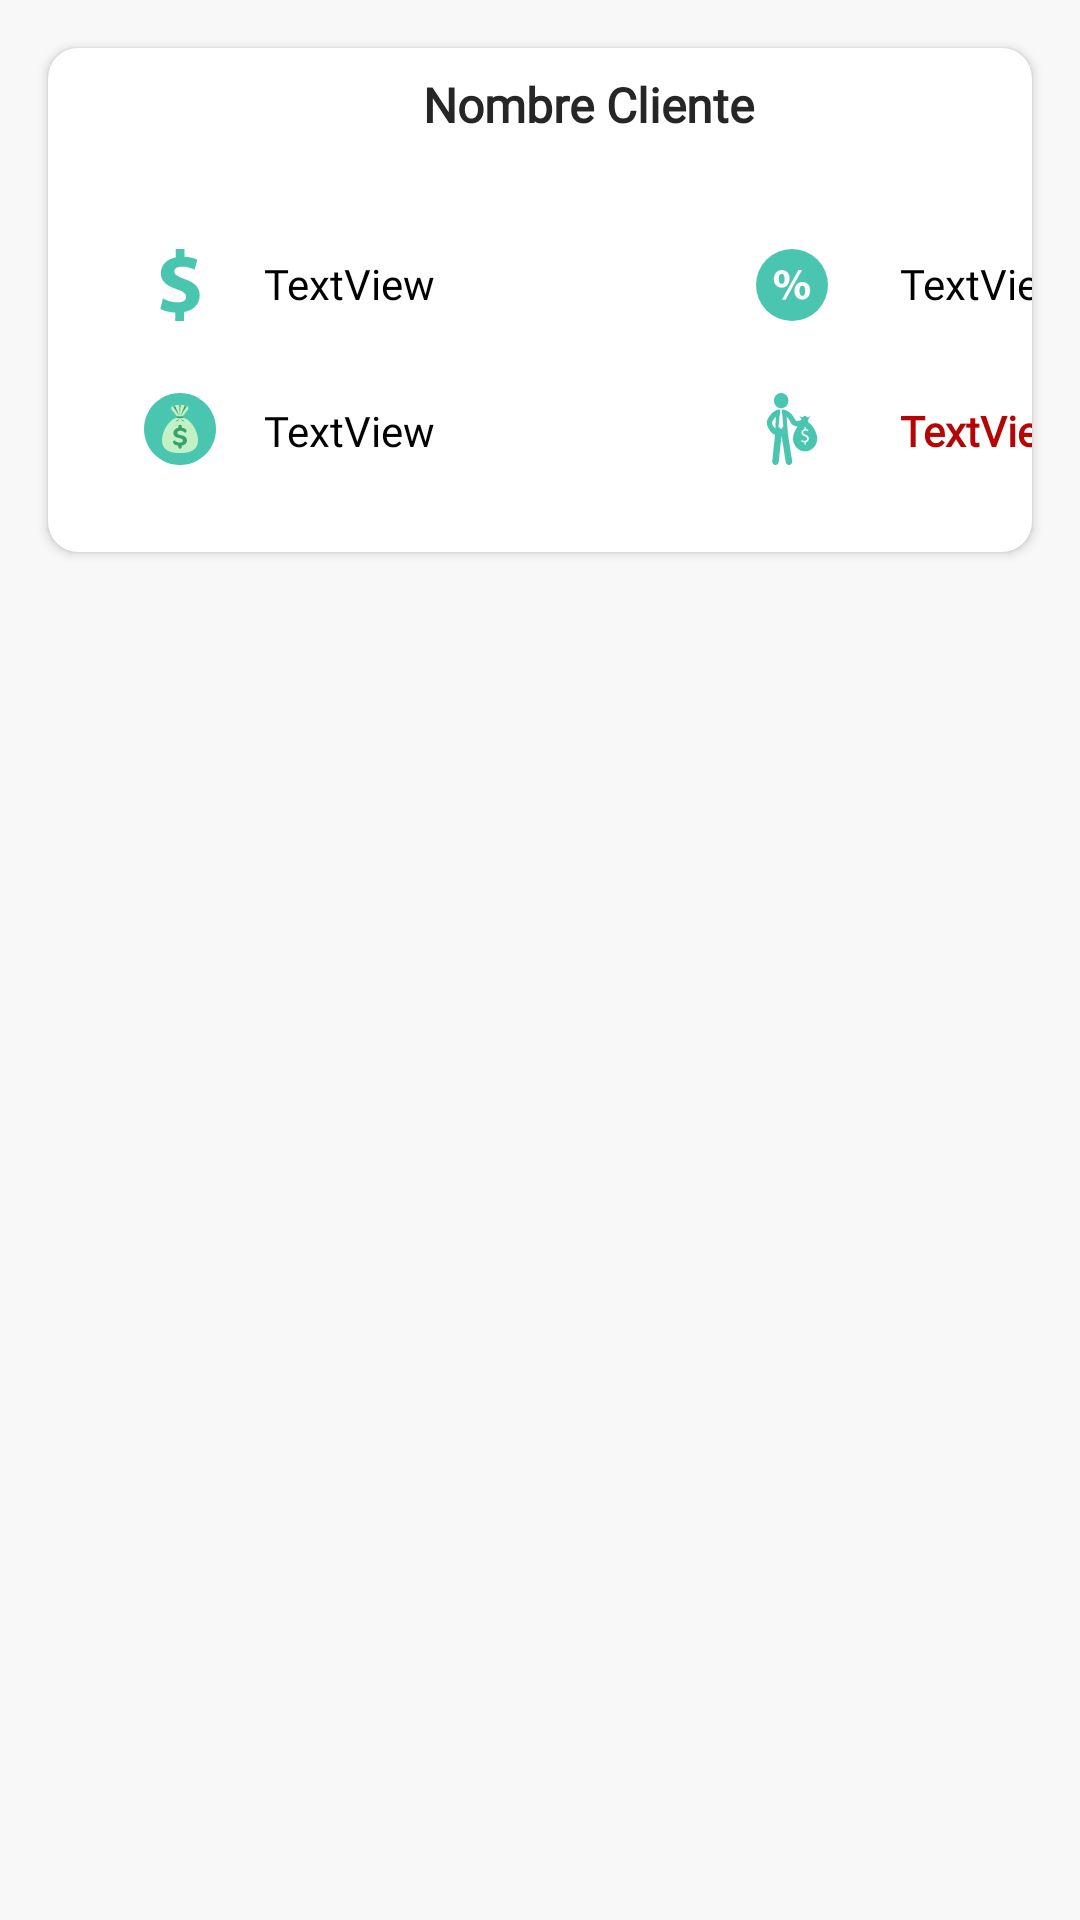

Where to tap for icons on this 1080px x 1920px app screen, as (x=x, y=y):
dollar: (x=180, y=285)
pagado: (x=180, y=429)
percentage: (x=792, y=285)
